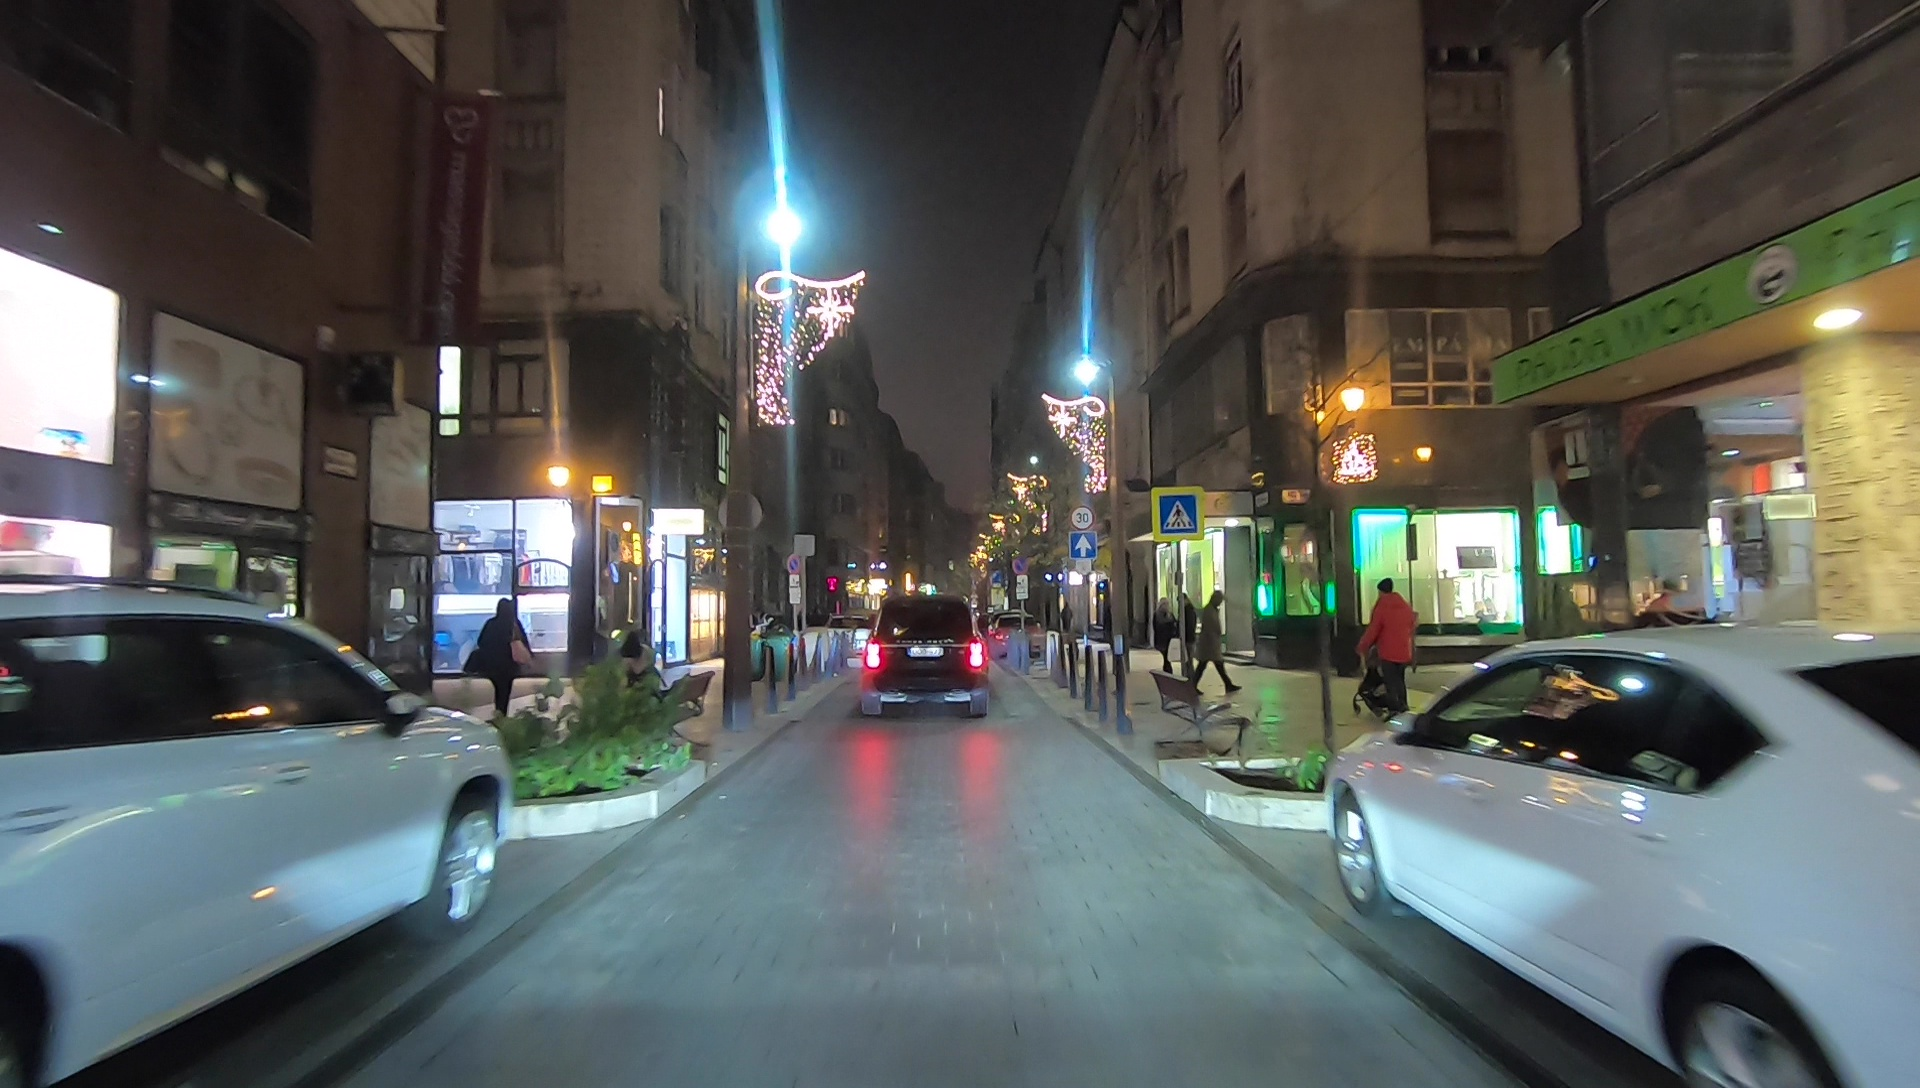person: (1354, 582, 1419, 737), (471, 593, 532, 736), (1186, 586, 1241, 693), (1152, 595, 1178, 682)
